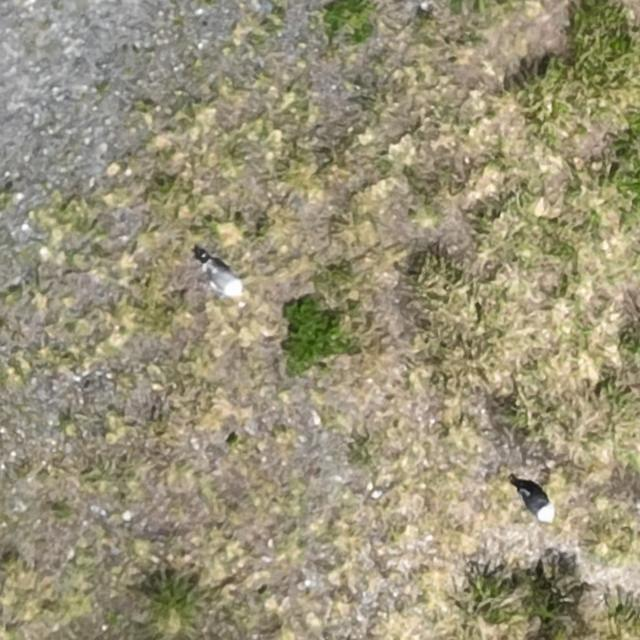umineko: (208, 263, 241, 295), (523, 489, 554, 521)
